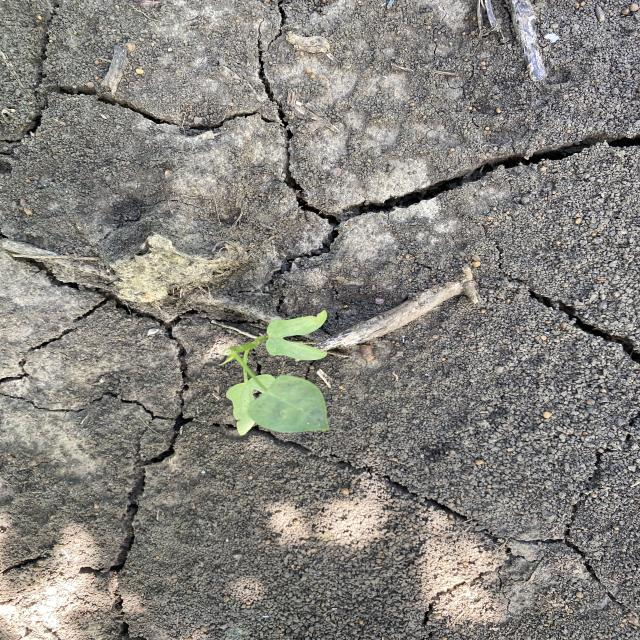MorningGlory: (216, 308, 332, 436)
